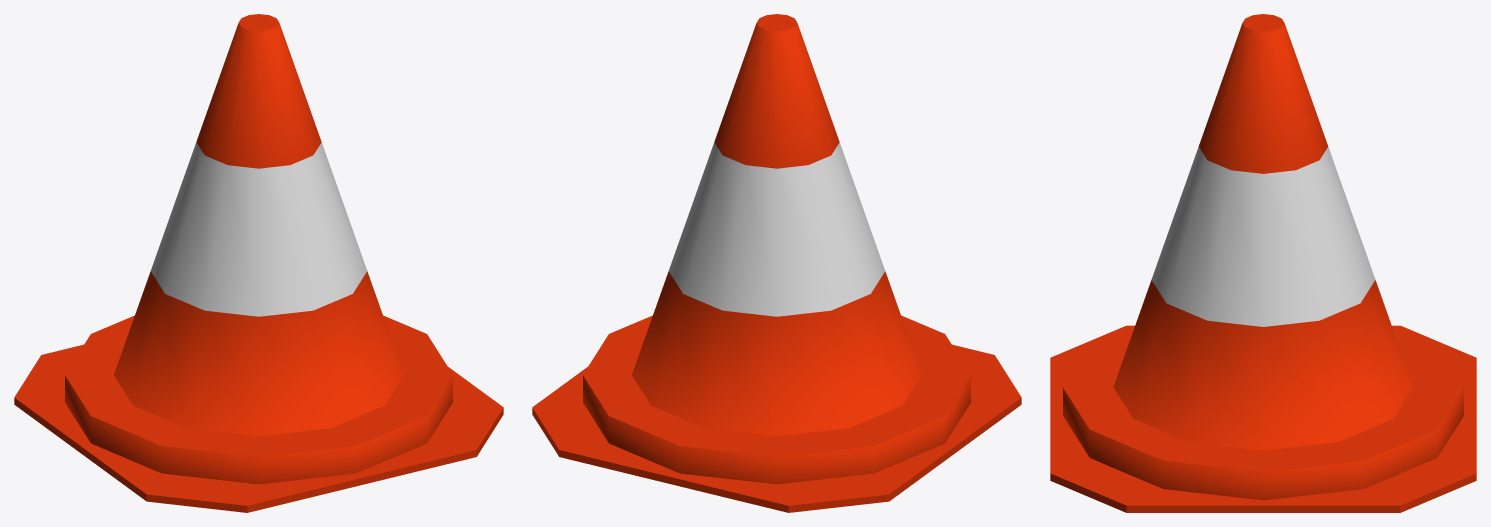
Rendered from ConeImport.fbx.
The picture shows the model from 3 angles, left to right: view 1: azimuth 30°, elevation 25°; view 2: azimuth 150°, elevation 25°; view 3: azimuth 270°, elevation 25°; orthographic projection. The views are drawn at different scales.
Parts seen in each view (by area): view 1: Cylinder; view 2: Cylinder; view 3: Cylinder.
Boxes of the visible parts, left/top/right/bottom form: Cylinder: left=14, top=14, right=503, bottom=512; Cylinder: left=532, top=14, right=1021, bottom=512; Cylinder: left=1050, top=14, right=1476, bottom=512.
Size of the model in its own units: 48.31 by 50.04 by 48.31.
